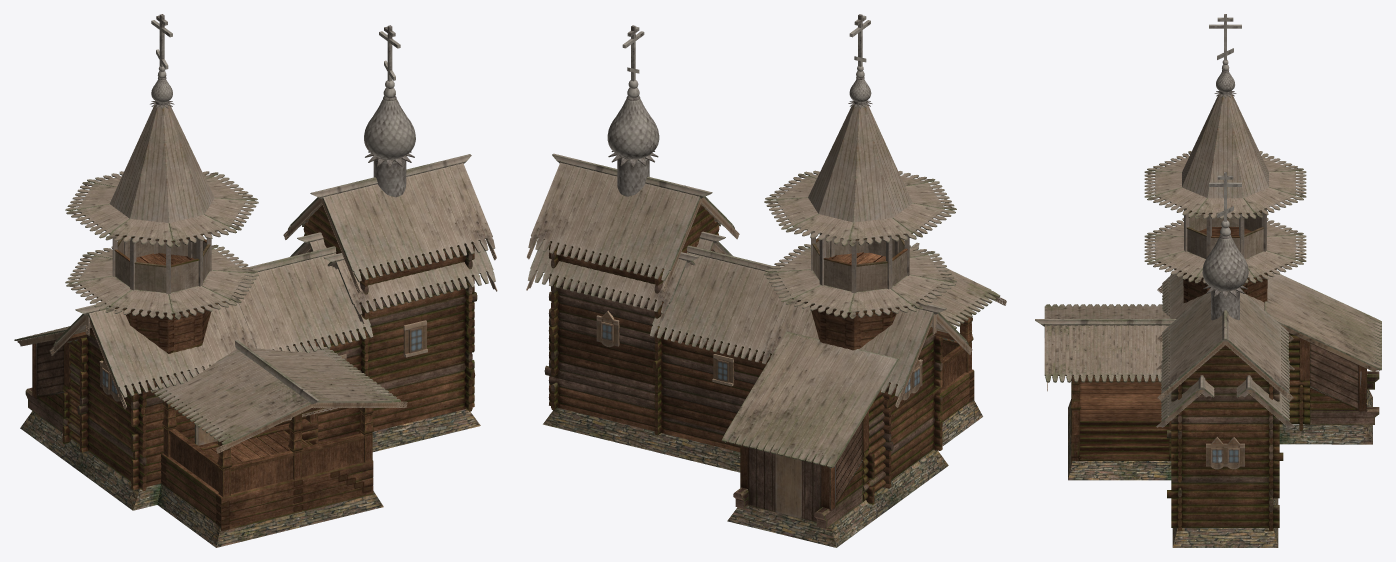
The model's file is Kirchen.fbx.
The picture shows the model from 3 angles, left to right: view 1: azimuth 30°, elevation 25°; view 2: azimuth 150°, elevation 25°; view 3: azimuth 270°, elevation 25°; orthographic projection. The views are drawn at different scales.
Visible parts, largest first — view 1: Object_6.001, Object_20, Object_9, Object_2, Object_5.001, Object_19.001, Object_18, Object_11.001, Object_12, Object_7, Object_24.001, Object_10.001 (+3 smaller); view 2: Object_6.001, Object_10.001, Object_20, Object_2, Object_5.001, Object_17.001, Object_9, Object_12, Object_19.001, Object_11.001, Object_24.001, Object_21.001 (+3 smaller); view 3: Object_6.001, Object_9, Object_19.001, Object_20, Object_5.001, Object_10.001, Object_7, Object_2, Object_12, Object_11.001, Object_21.001, Object_22 (+3 smaller).
Boxes of the visible parts, <box> form: Object_6.001: <box>17,15,477,490</box>; Object_20: <box>89,79,495,397</box>; Object_9: <box>25,197,497,531</box>; Object_2: <box>27,14,470,493</box>; Object_5.001: <box>20,253,480,547</box>; Object_19.001: <box>54,314,400,443</box>; Object_18: <box>235,244,494,352</box>; Object_11.001: <box>65,66,393,440</box>; Object_12: <box>66,171,372,415</box>; Object_7: <box>14,15,495,497</box>; Object_24.001: <box>293,239,495,314</box>; Object_10.001: <box>16,71,400,444</box>; Object_6.001: <box>544,15,942,488</box>; Object_10.001: <box>626,71,989,466</box>; Object_20: <box>528,79,967,344</box>; Object_2: <box>552,14,965,528</box>; Object_5.001: <box>543,252,982,547</box>; Object_17.001: <box>527,228,1006,407</box>; Object_9: <box>526,196,974,528</box>; Object_12: <box>764,171,956,317</box>; Object_19.001: <box>762,261,999,395</box>; Object_11.001: <box>650,66,998,362</box>; Object_24.001: <box>528,238,729,312</box>; Object_21.001: <box>527,98,970,407</box>; Object_6.001: <box>1071,15,1380,530</box>; Object_9: <box>1071,219,1379,464</box>; Object_19.001: <box>1044,294,1288,381</box>; Object_20: <box>1162,71,1288,391</box>; Object_5.001: <box>1068,227,1372,547</box>; Object_10.001: <box>1044,64,1381,381</box>; Object_7: <box>1047,17,1381,457</box>; Object_2: <box>1035,14,1379,430</box>; Object_12: <box>1144,151,1306,282</box>; Object_11.001: <box>1044,60,1303,382</box>; Object_21.001: <box>1157,237,1293,398</box>; Object_22: <box>1047,382,1273,530</box>.
Size of the model in its own units: 1231 by 1369 by 1055.
